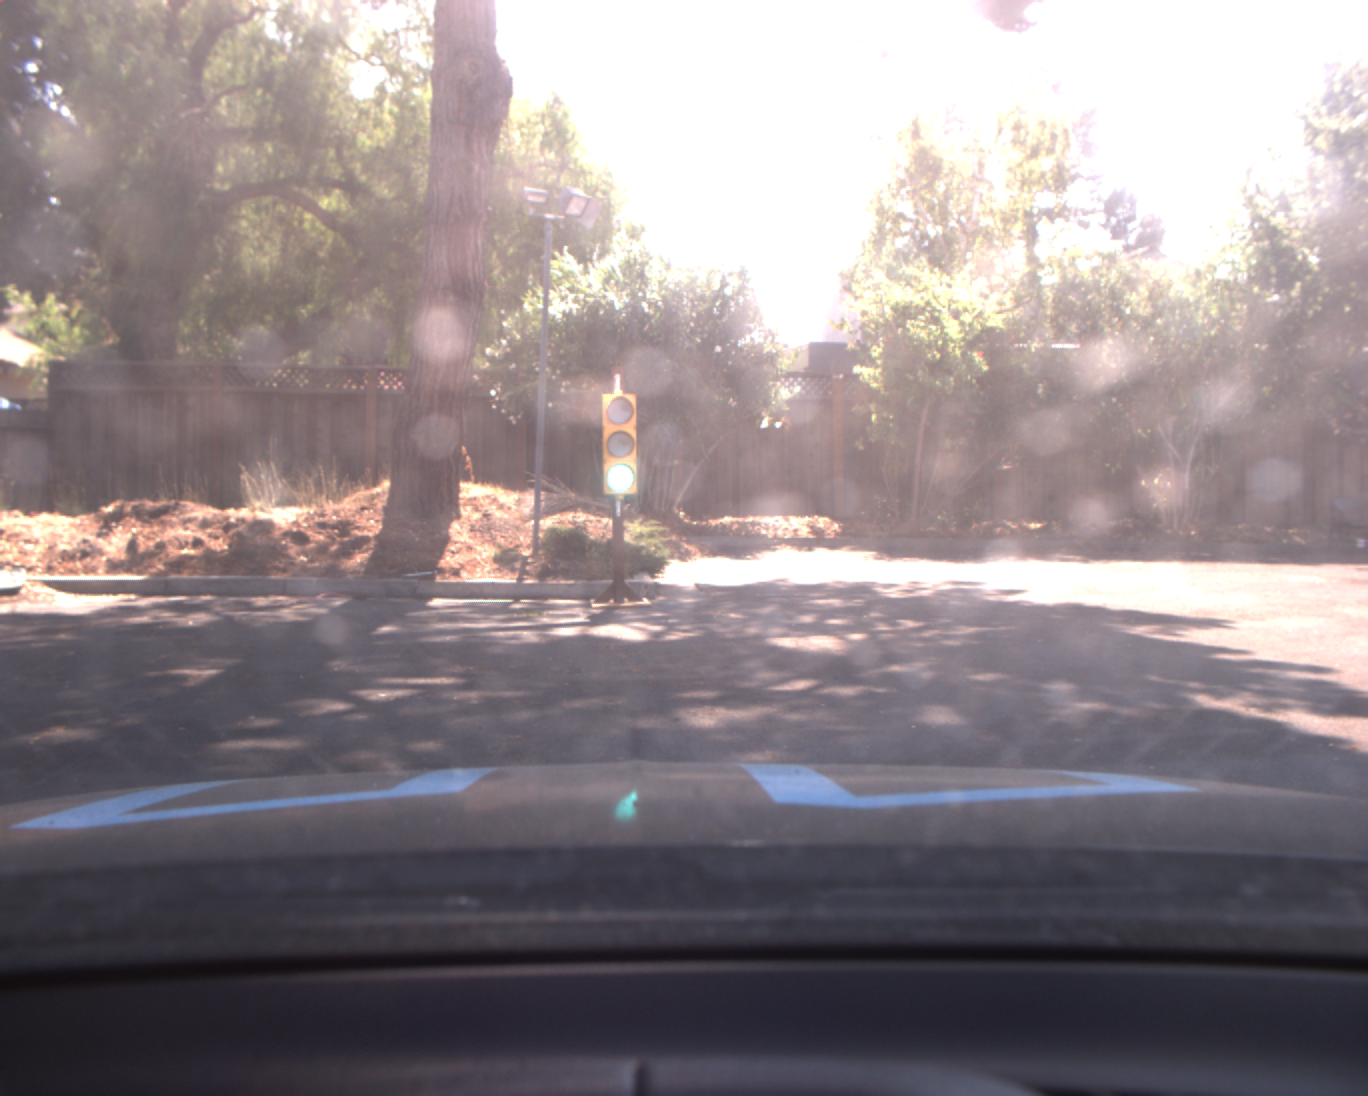green: (597, 390, 642, 498)
